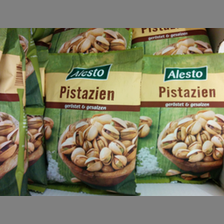nuts: (34, 50, 144, 195), (138, 53, 224, 185)
